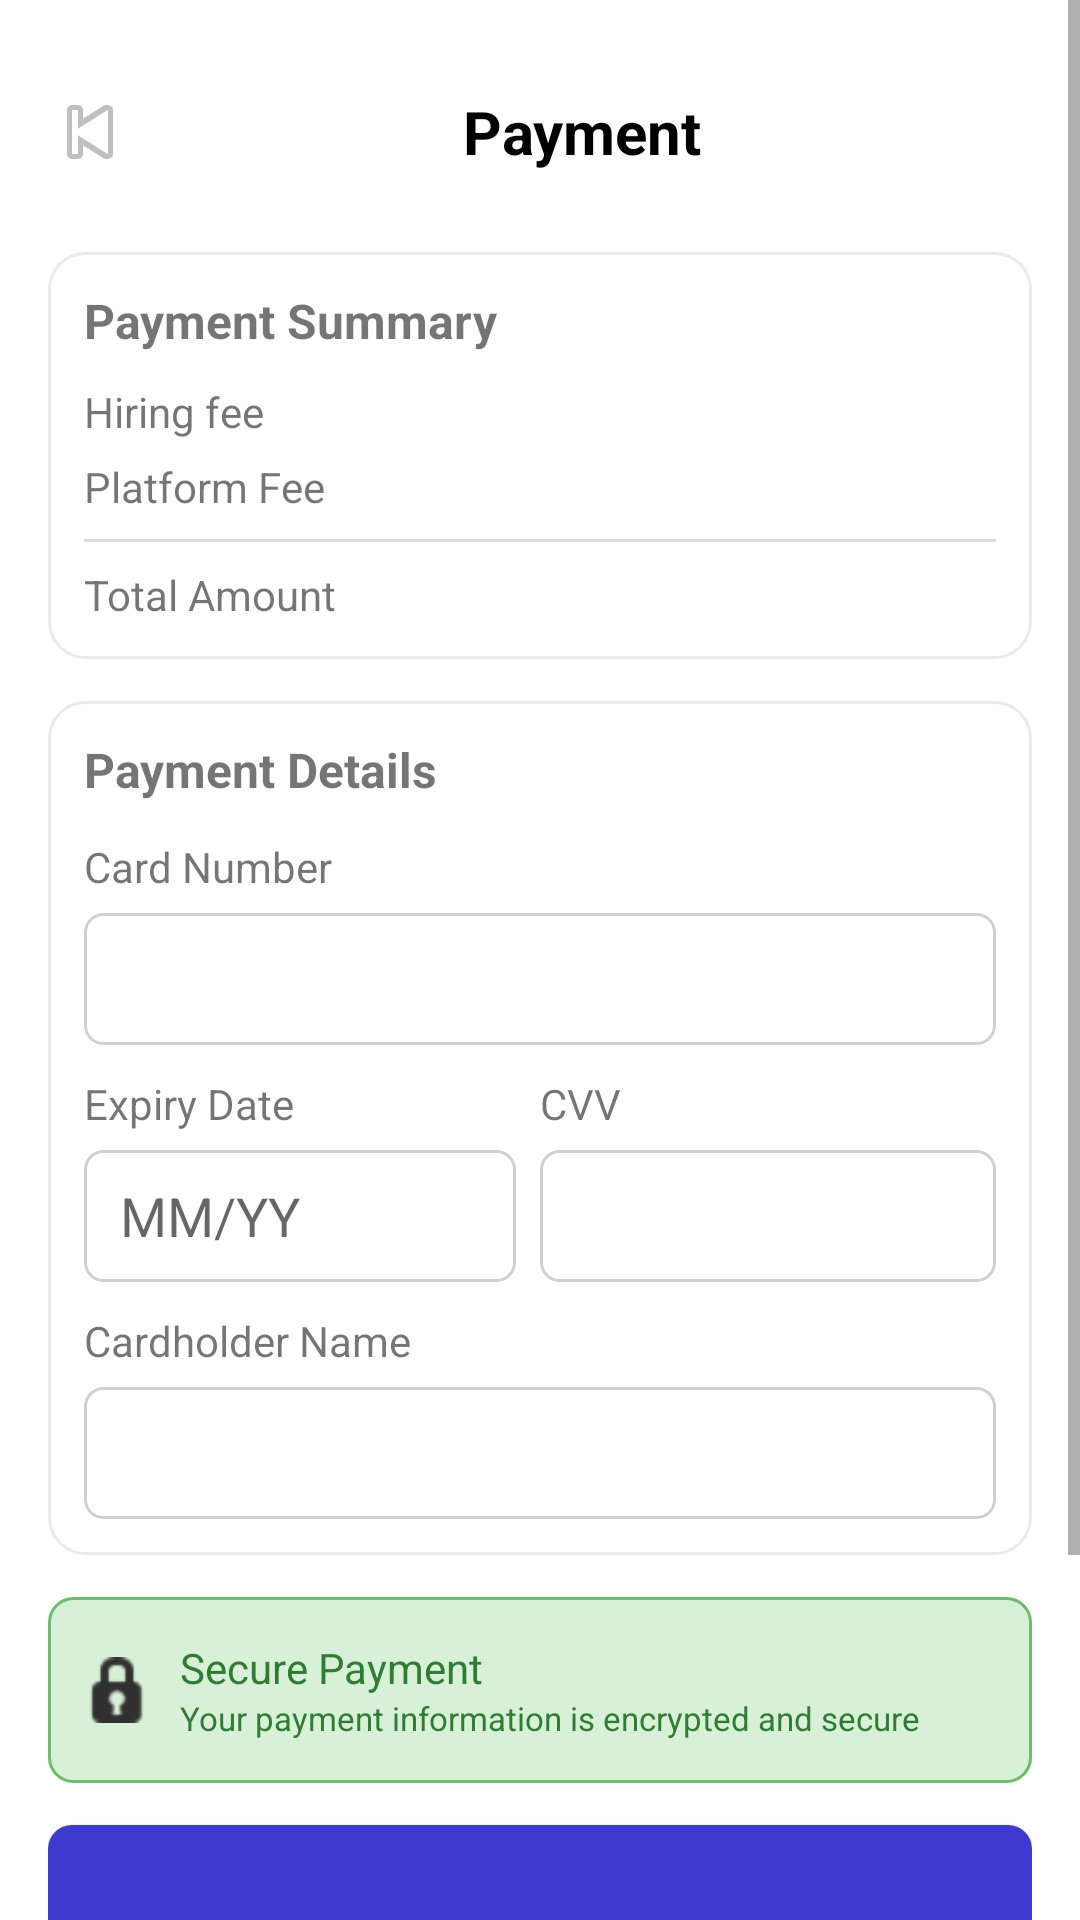

Point at icon controls on the screen. Image size 1080×1920, points as (x=x, y=y).
Back: (x=90, y=132)
